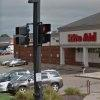Traffic light: (13, 17, 65, 53)
